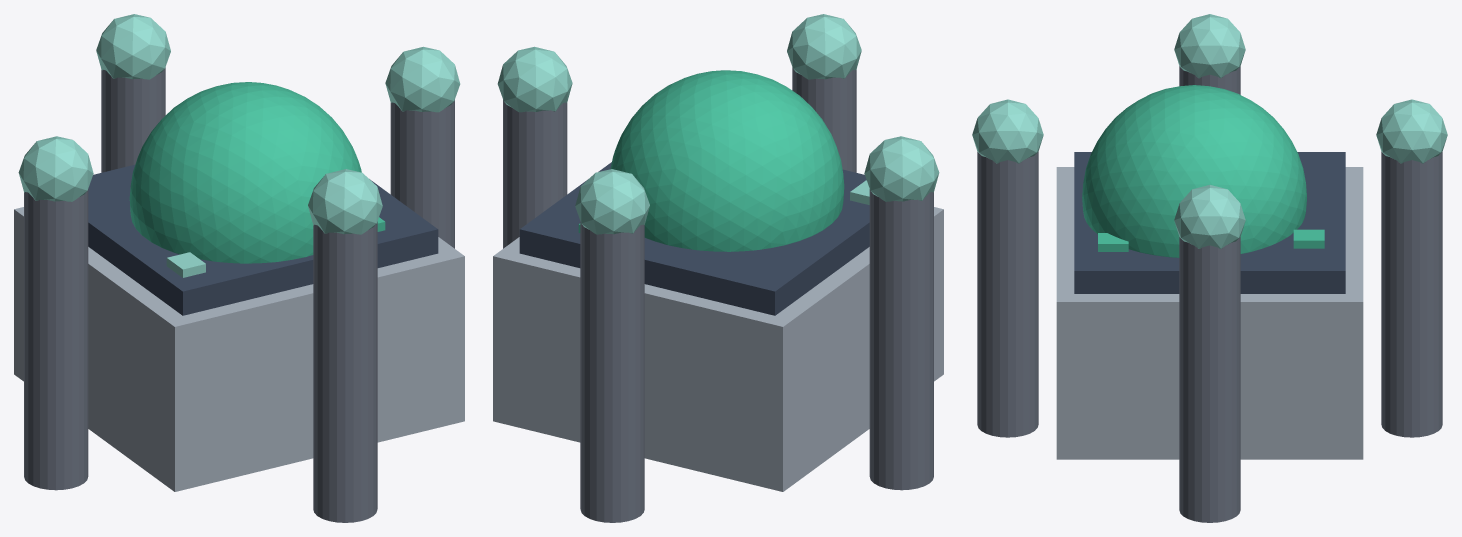
Rendered from aux-repair.glb.
3 renders of one model, left to right at view 1: azimuth 30°, elevation 25°; view 2: azimuth 150°, elevation 25°; view 3: azimuth 270°, elevation 25°, orthographic. The views are drawn at different scales.
Visible parts, largest first — view 1: part000, part002, part006, part008, part001, part004, part010, part005, part007, part011, part009, part018; view 2: part000, part002, part010, part008, part001, part004, part005, part011, part007, part009, part006; view 3: part000, part002, part006, part010, part004, part001, part007, part011, part009, part005, part008, part014.
Boxes of the visible parts, <box> form: part000: <box>14,207,464,491</box>; part002: <box>129,82,361,263</box>; part006: <box>313,221,377,522</box>; part008: <box>24,189,88,490</box>; part001: <box>88,164,438,315</box>; part004: <box>390,100,454,248</box>; part010: <box>101,67,165,172</box>; part005: <box>385,46,460,112</box>; part007: <box>308,169,382,234</box>; part011: <box>96,14,170,79</box>; part009: <box>18,136,93,201</box>; part018: <box>166,252,205,277</box>; part000: <box>493,207,943,491</box>; part002: <box>610,70,844,251</box>; part010: <box>580,221,644,522</box>; part008: <box>869,189,933,490</box>; part001: <box>519,162,869,315</box>; part004: <box>503,100,567,248</box>; part005: <box>497,46,572,112</box>; part011: <box>575,169,649,234</box>; part007: <box>787,14,861,79</box>; part009: <box>864,136,939,201</box>; part006: <box>792,67,856,172</box>; part000: <box>1056,167,1363,459</box>; part002: <box>1082,85,1306,257</box>; part006: <box>977,151,1038,437</box>; part010: <box>1381,151,1442,437</box>; part004: <box>1179,237,1240,522</box>; part001: <box>1074,152,1345,293</box>; part007: <box>972,99,1043,163</box>; part011: <box>1376,99,1447,163</box>; part009: <box>1174,14,1245,78</box>; part005: <box>1174,185,1245,248</box>; part008: <box>1179,66,1240,94</box>; part014: <box>1293,229,1324,248</box>.
Bounding box in the file's own units: 1.86 × 1.42 × 1.86.
